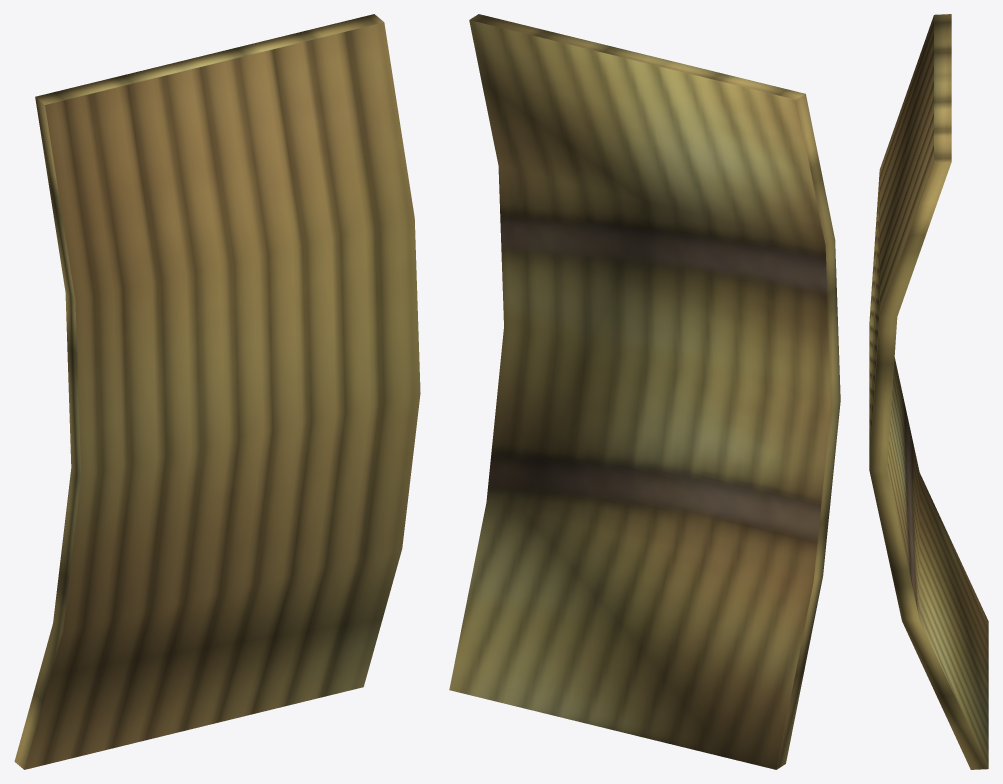
File: shield_flex.dae
3 views of the same model, side by side, from view 1: azimuth 30°, elevation 25°; view 2: azimuth 150°, elevation 25°; view 3: azimuth 270°, elevation 25° (orthographic). The views are drawn at different scales.
Parts seen in each view (by area): view 1: shield_flex; view 2: shield_flex; view 3: shield_flex.
Part boxes in pixels (<box>): shield_flex: <box>14,14,420,769</box>; shield_flex: <box>449,14,840,769</box>; shield_flex: <box>869,14,988,769</box>.
Size of the model in its own units: 1.21 by 0.4136 by 2.33.
